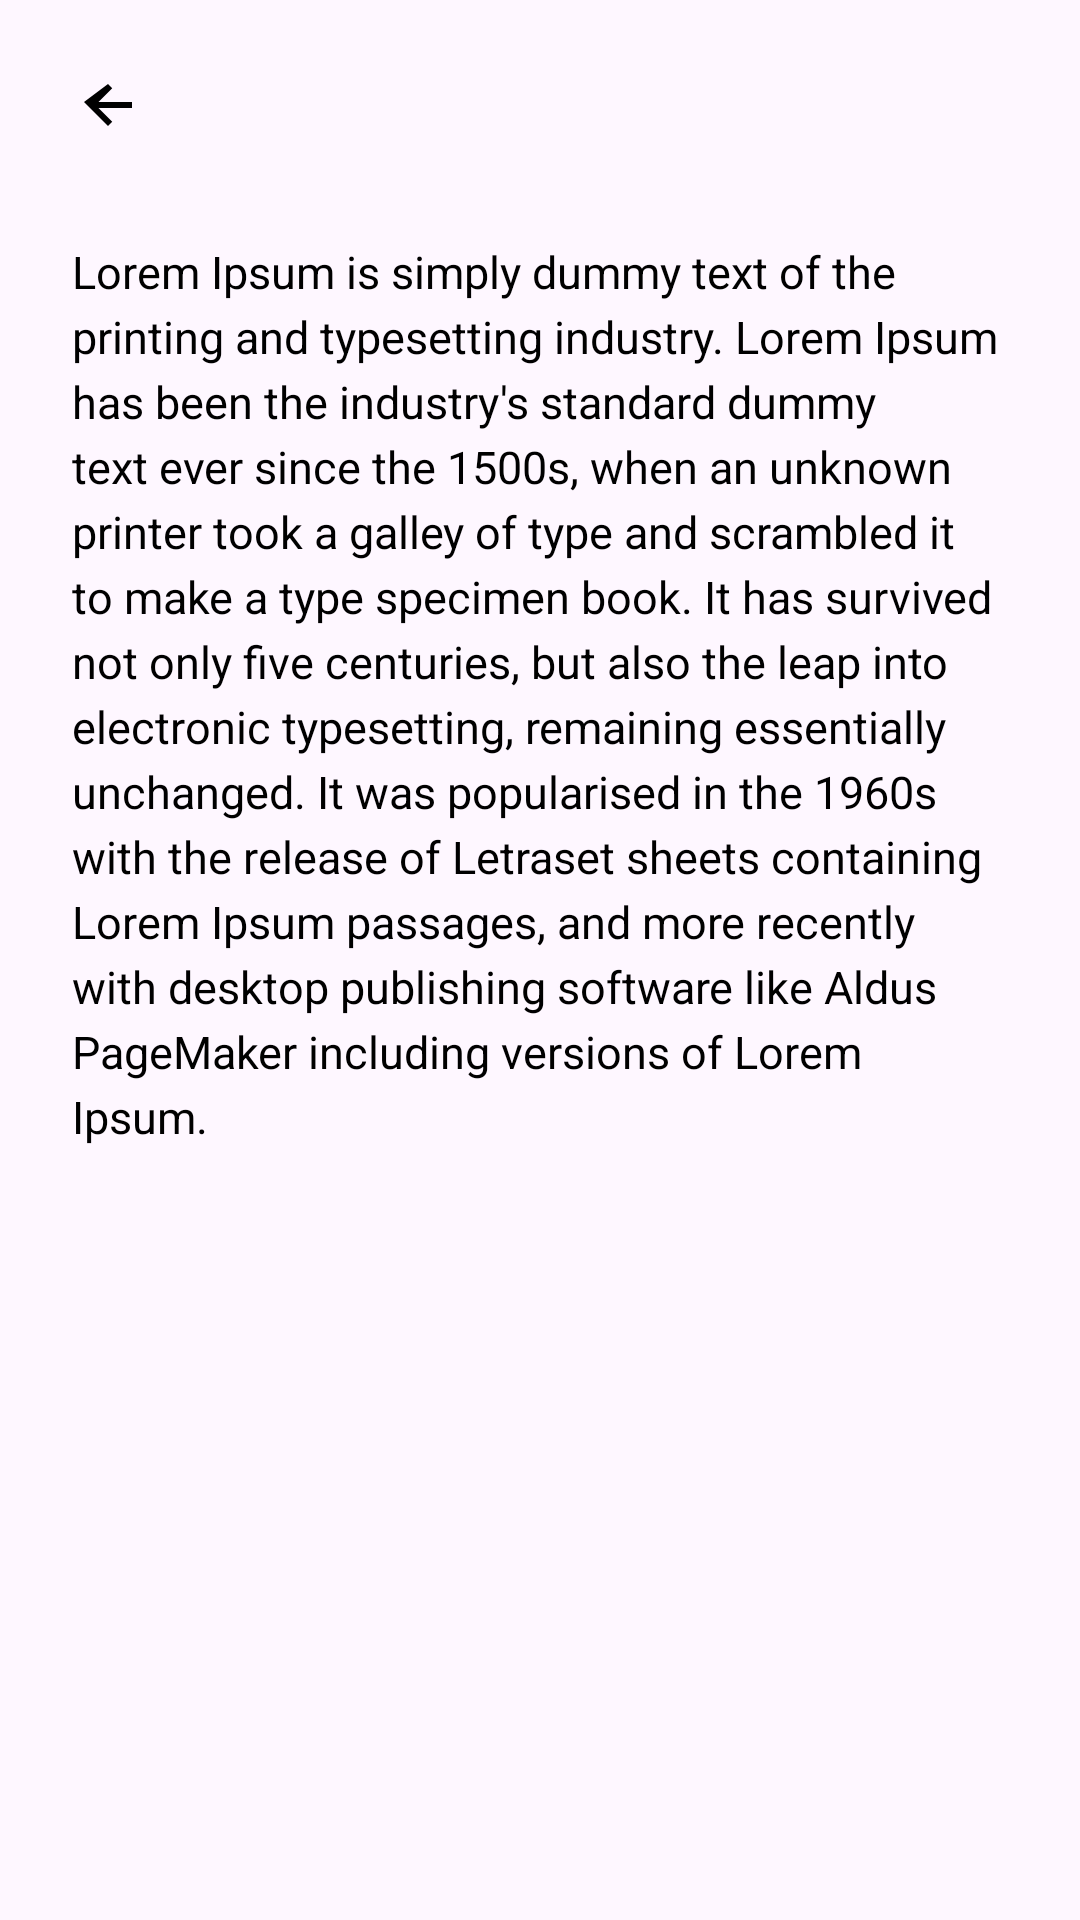

Screen size 1080px×1920px. Icon name, then its box in pixels as (x1, y1, x2, y2):
back: (84, 84, 132, 126)
